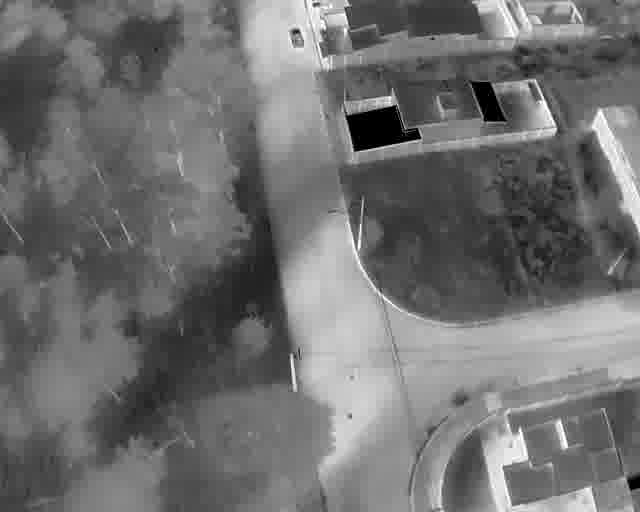car: (288, 27, 304, 48)
